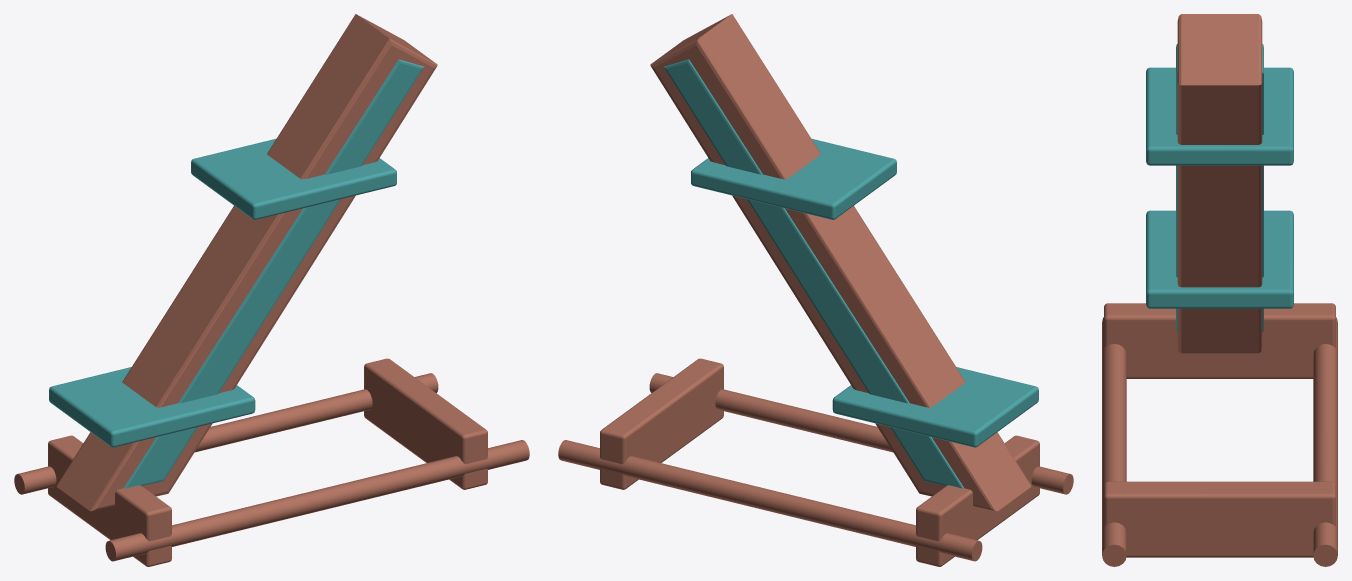
The model's file is enchanted-harp-garden-and-music-sanctuary-harp-transpo-1440c836__30406.glb.
3 renders of one model, left to right at view 1: azimuth 30°, elevation 25°; view 2: azimuth 150°, elevation 25°; view 3: azimuth 270°, elevation 25°, orthographic. The views are drawn at different scales.
Parts seen in each view (by area): view 1: harp-transport-cradle; view 2: harp-transport-cradle; view 3: harp-transport-cradle.
Part boxes in pixels (x1,y1,x2,y2): harp-transport-cradle: (14, 14, 529, 566); harp-transport-cradle: (558, 14, 1073, 566); harp-transport-cradle: (1102, 14, 1337, 566).
Size of the model in its own units: 1.57 by 1.59 by 0.67.
